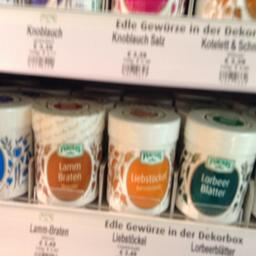spices: (174, 108, 254, 222), (28, 94, 106, 204), (106, 104, 180, 216)
